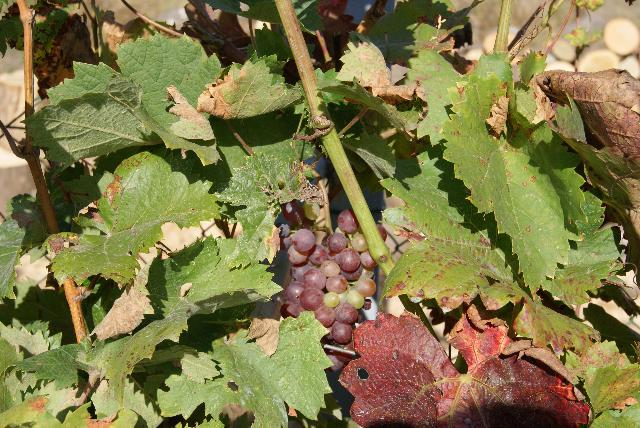grapes: (280, 210, 376, 345)
